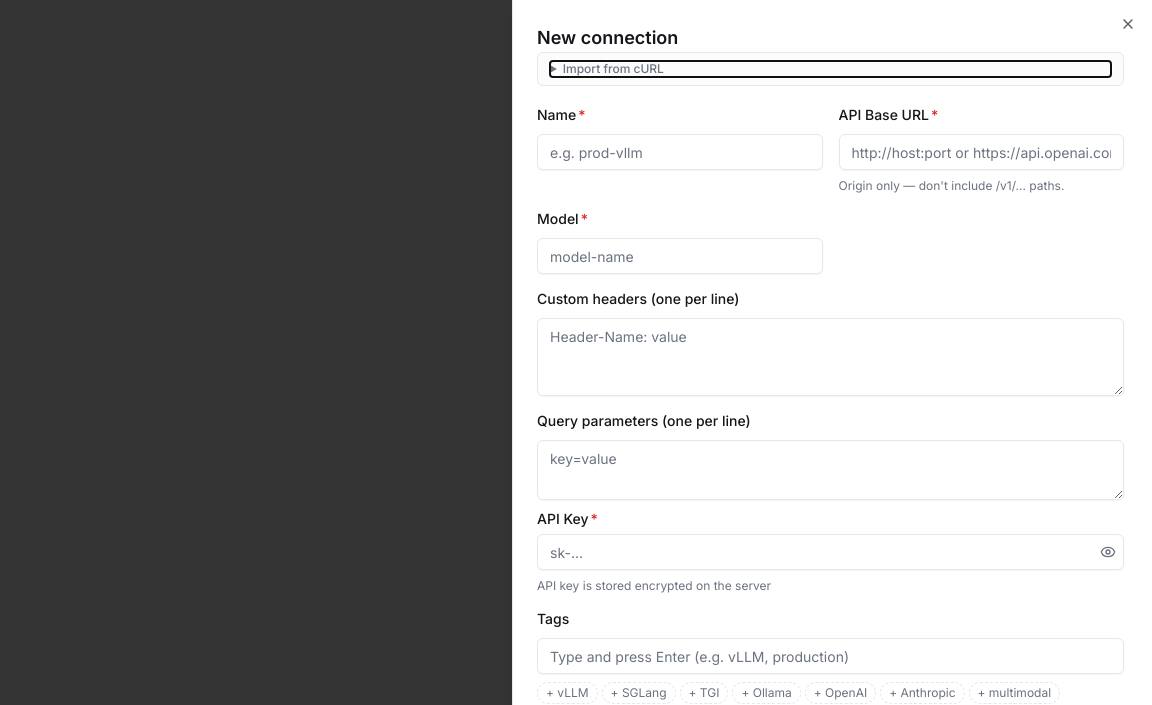
Test: ConnectionSheet — Discover region › zero-result banner can be dismissed via the X button
The width and height of the screenshot is (1152, 705).
Type "http://x.test" into the field labelled "API Base URL*" at (981,152), box top-left (838, 134), bottom-right (1124, 170)
(page scrolled)
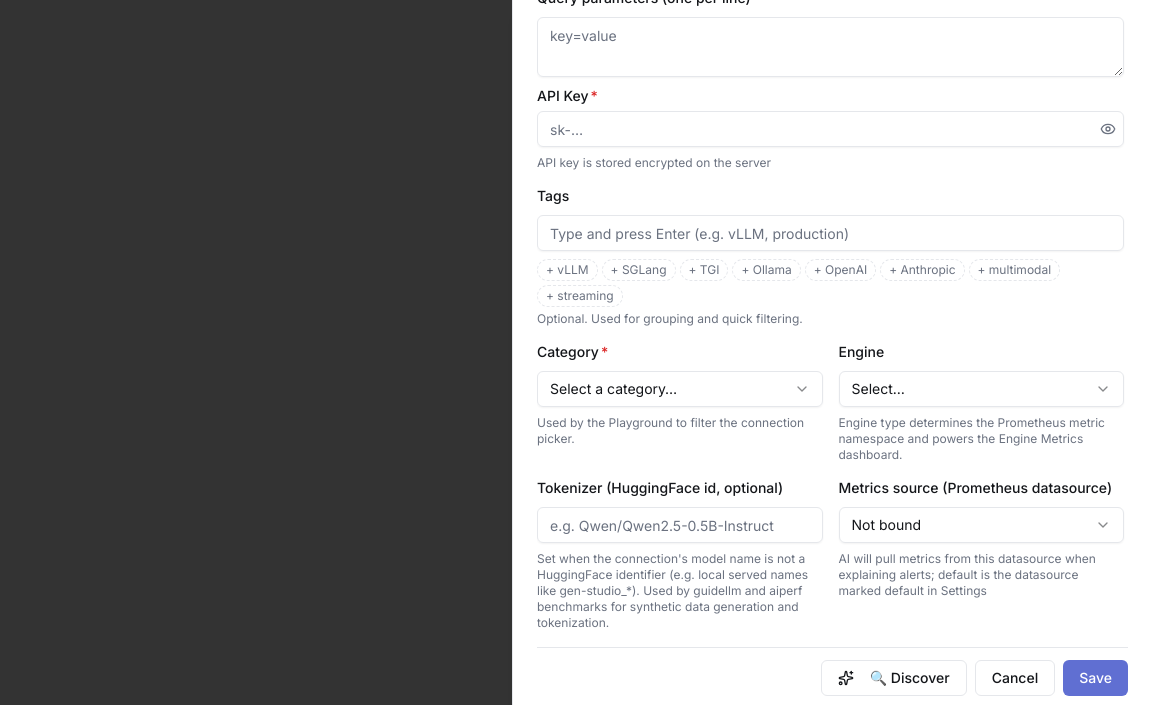
Click the button "🔍 Discover" at (894,678), box top-left (821, 660), bottom-right (967, 696)
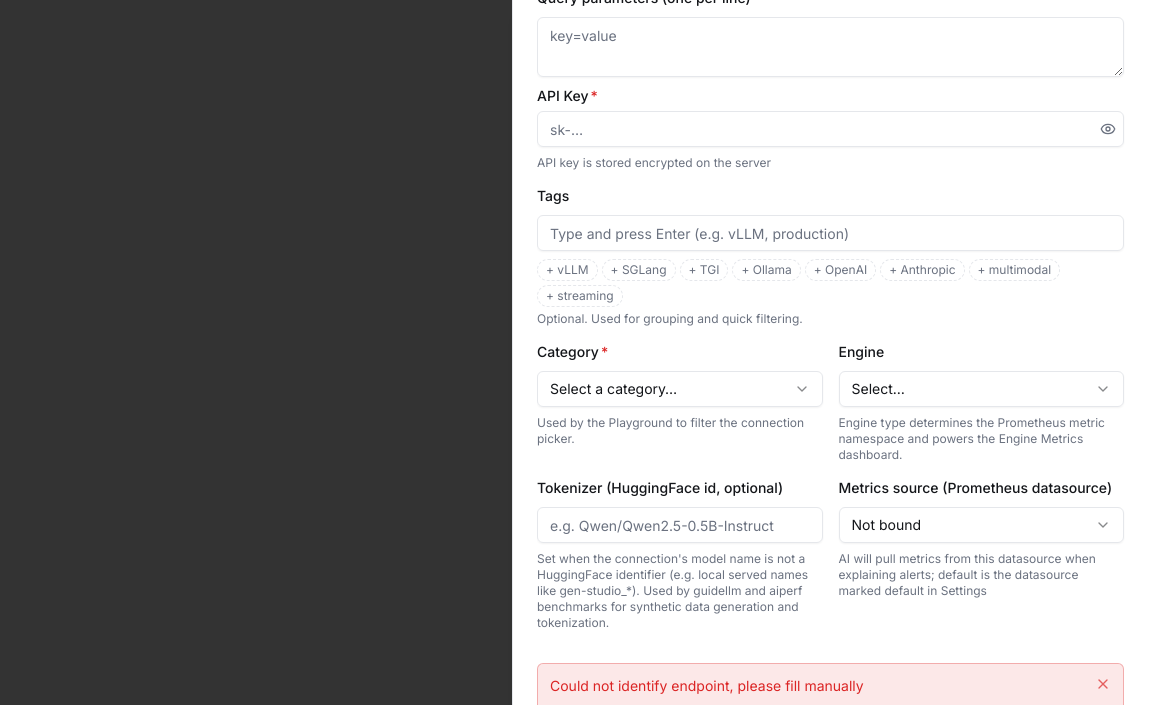
Expected: the text "Could not identify endpoint, please fill manually" is shown, top-left (550, 677), bottom-right (864, 694)
Click the button named "Dismiss discover result" at (1103,684), box top-left (1095, 676), bottom-right (1111, 692)
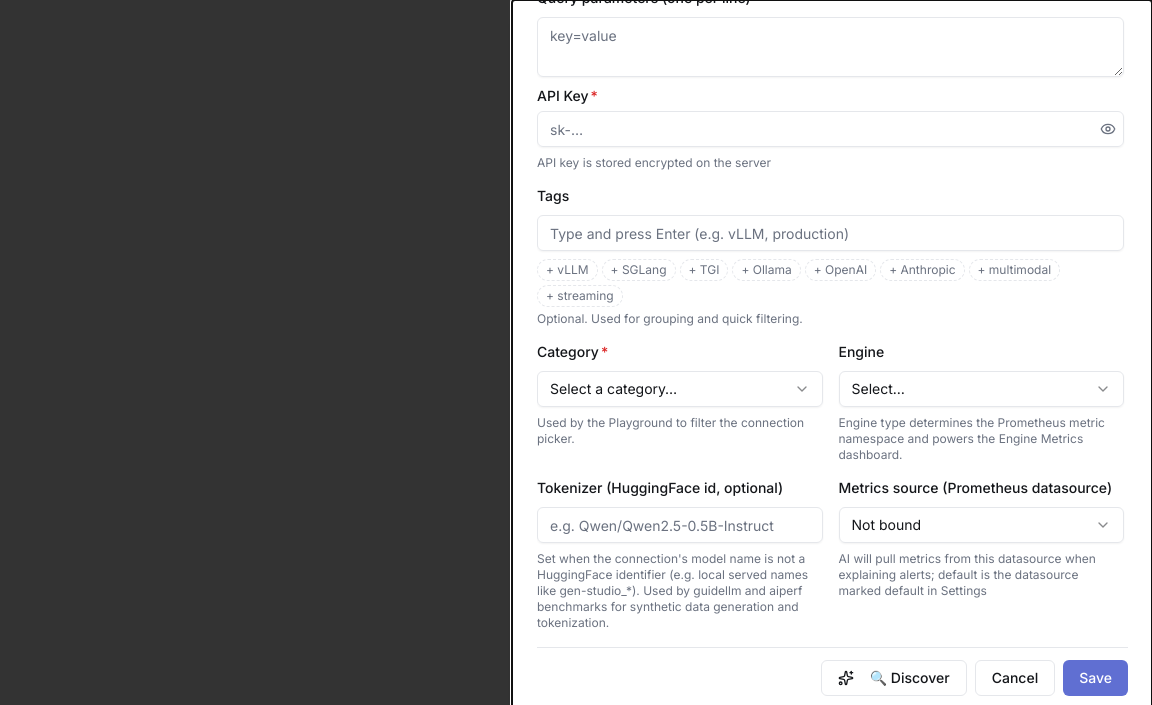
Expected: the text "Could not identify endpoint, please fill manually" is gone
